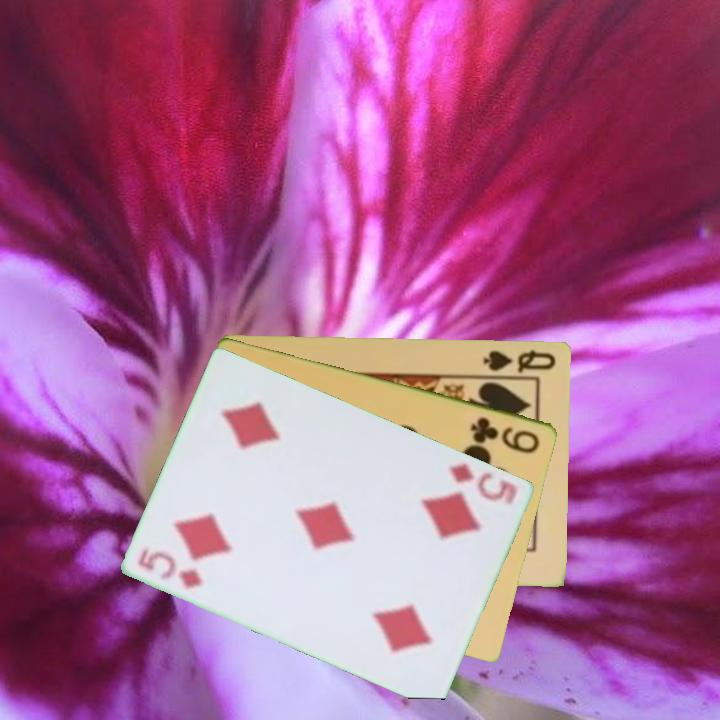5d: (445, 459, 521, 507), (135, 544, 206, 593)
9c: (467, 413, 543, 456)
Qs: (480, 346, 559, 376)
